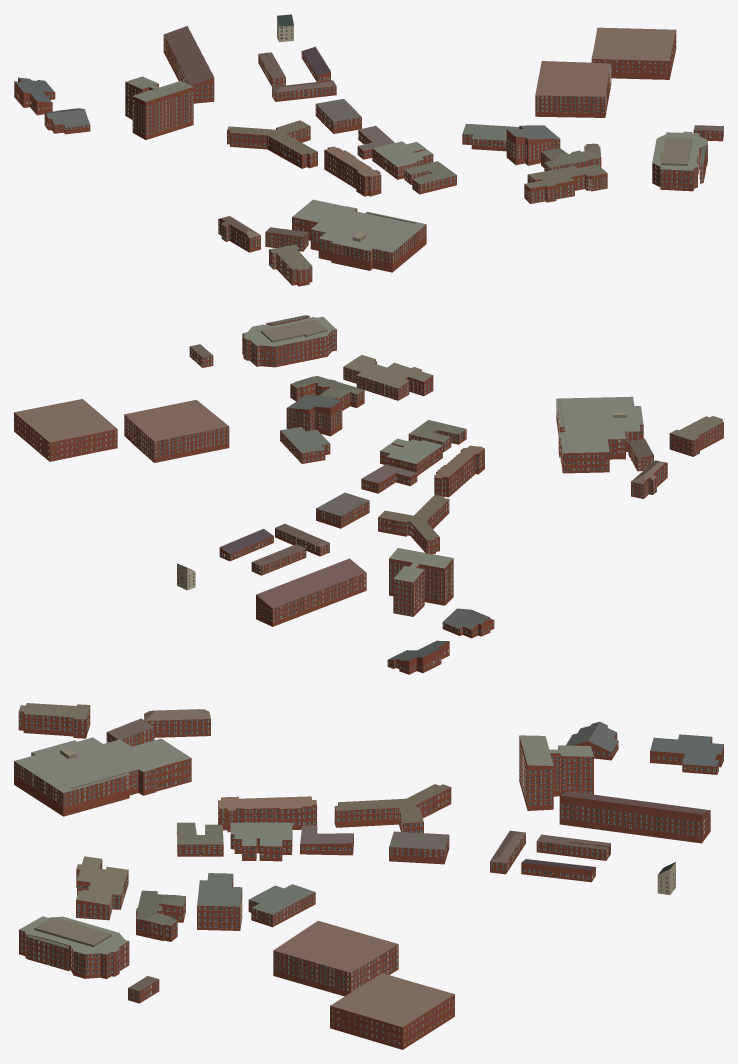
The picture shows the model from 3 angles, top to bottom: view 1: azimuth 30°, elevation 25°; view 2: azimuth 150°, elevation 25°; view 3: azimuth 270°, elevation 25°; orthographic projection. The views are drawn at different scales.
Visible parts, largest first — view 1: -3_-1_187869327_0; view 2: -3_-1_187869327_0; view 3: -3_-1_187869327_0.
Part boxes in pixels (box(x1,y1,x2,y2)): -3_-1_187869327_0: box(14, 14, 723, 286); -3_-1_187869327_0: box(14, 315, 723, 674); -3_-1_187869327_0: box(14, 703, 723, 1049).
Size of the model in its own units: 536 by 42.69 by 503.
